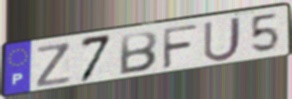5: (248, 11, 282, 55)
7: (78, 33, 114, 86)
B: (117, 30, 160, 76)
F: (161, 23, 200, 71)
U: (202, 15, 244, 64)
Z: (35, 41, 73, 89)
